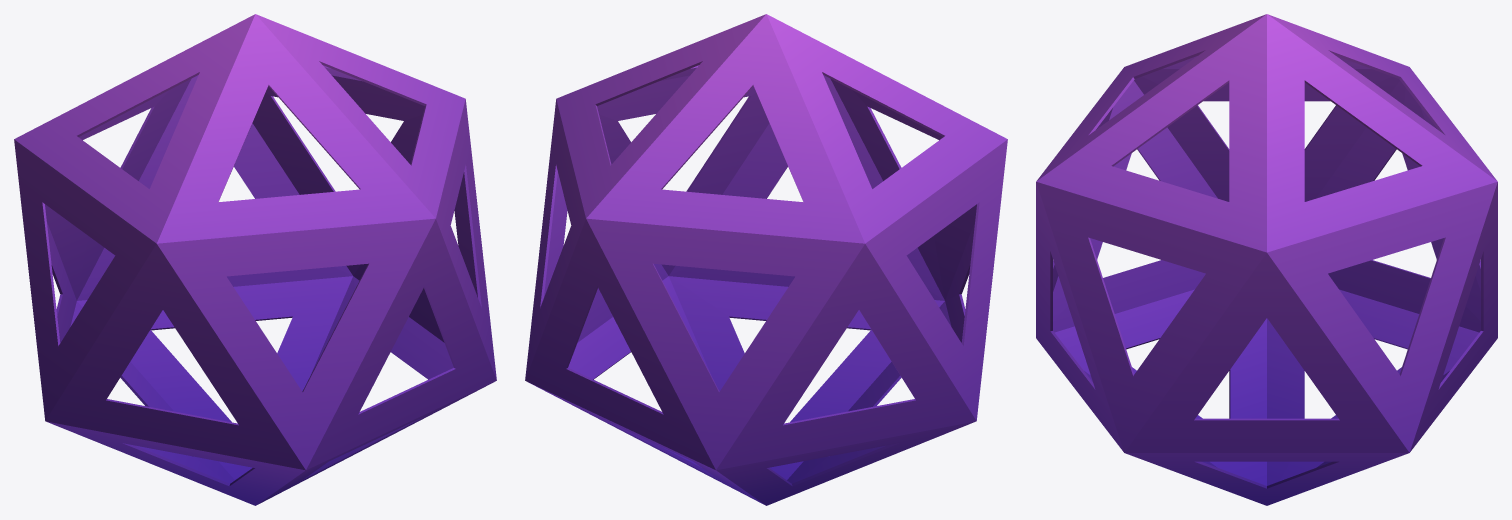
File: Implosion.fbx
3 renders of one model, left to right at view 1: azimuth 30°, elevation 25°; view 2: azimuth 150°, elevation 25°; view 3: azimuth 270°, elevation 25°, orthographic.
Visible parts, largest first — view 1: Implosion; view 2: Implosion; view 3: Implosion.
Boxes of the visible parts, x1,y1,x2,y2 form: Implosion: (14,14,496,505); Implosion: (525,14,1007,505); Implosion: (1036,14,1497,505).
Bounding box in the file's own units: 0.7155 × 0.6805 × 0.8.
